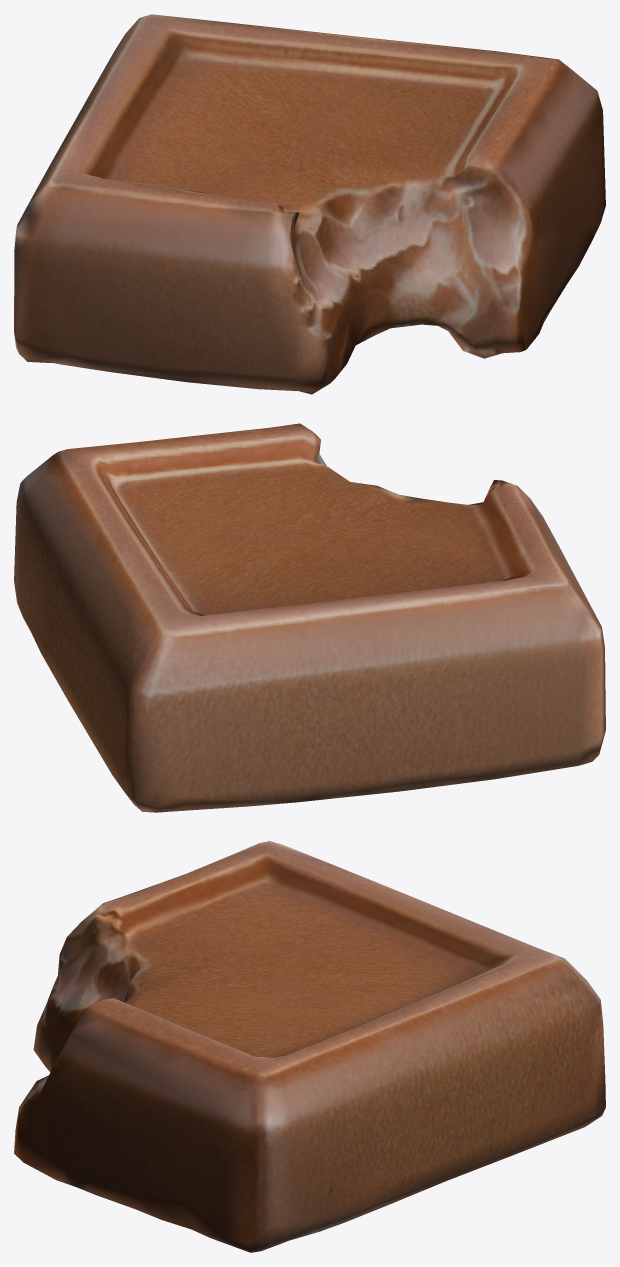
Rendered from Food_Chocolate.fbx.
The picture shows the model from 3 angles, top to bottom: view 1: azimuth 30°, elevation 25°; view 2: azimuth 150°, elevation 25°; view 3: azimuth 270°, elevation 25°; orthographic projection. The views are drawn at different scales.
Visible parts, largest first — view 1: Food_Chocolate; view 2: Food_Chocolate; view 3: Food_Chocolate.
Boxes of the visible parts, <box> form: Food_Chocolate: <box>14,14,605,394</box>; Food_Chocolate: <box>14,423,605,812</box>; Food_Chocolate: <box>14,841,605,1252</box>.
Bounding box in the file's own units: 0.26 × 0.0762 × 0.2356.
1 material, 1 textured.
